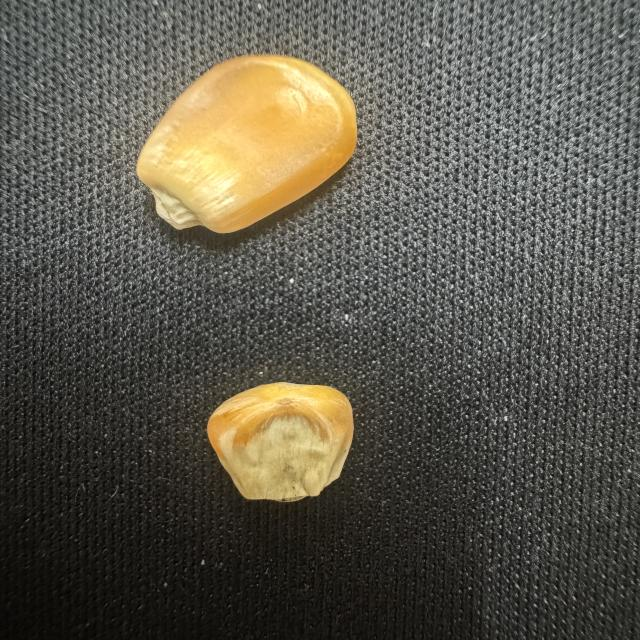Bad-Seed: (191, 377, 362, 508)
Good-Seed: (128, 43, 370, 256)
